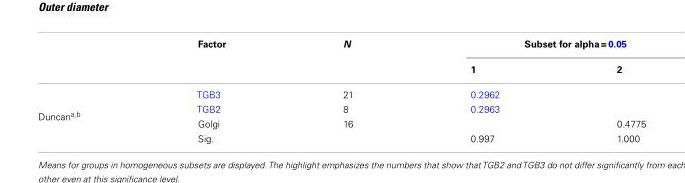table: (37, 37, 645, 143)
table column: (137, 37, 283, 143), (411, 37, 557, 143), (283, 37, 411, 143), (37, 37, 137, 143), (557, 37, 645, 143)
table column header: (37, 37, 645, 81)
table row: (37, 55, 645, 81), (37, 81, 645, 101), (37, 37, 645, 55), (37, 115, 645, 130), (37, 101, 645, 115), (37, 130, 645, 143)
table spanning cell: (137, 37, 283, 81), (37, 81, 137, 143), (283, 37, 411, 81), (411, 37, 645, 55)
